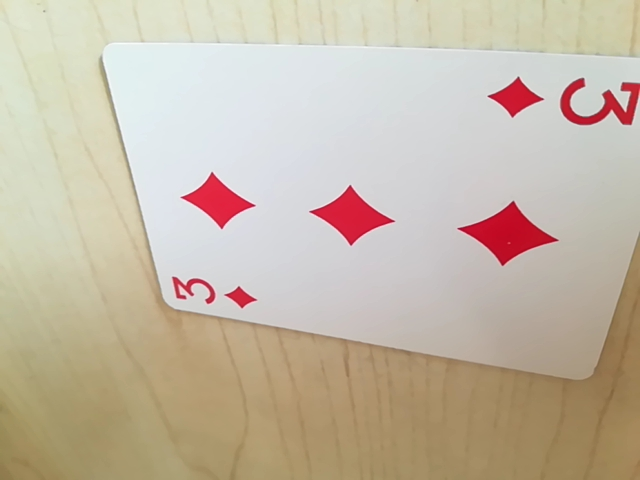fk 3: (482, 71, 640, 131), (165, 269, 261, 314)
